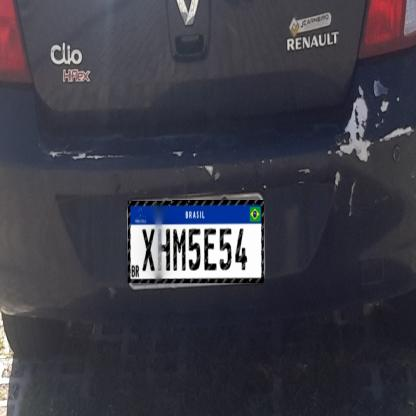PlacaM: (128, 200, 264, 283)
